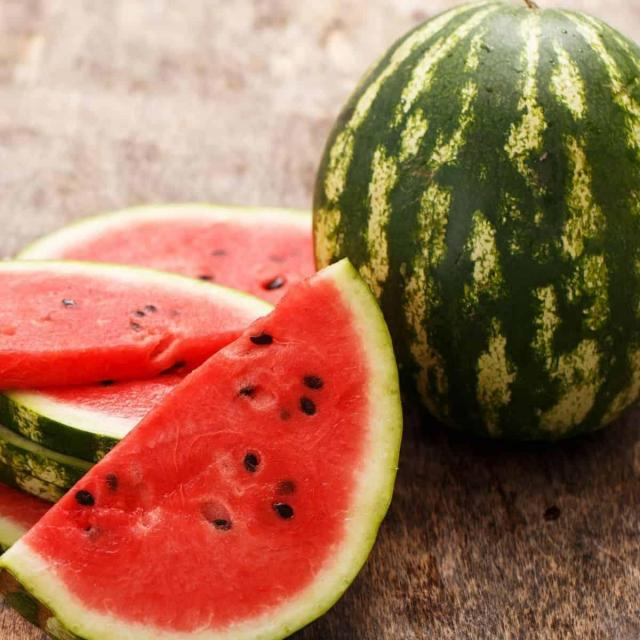watermelon: (0, 241, 414, 640), (309, 0, 640, 467), (0, 188, 342, 508), (0, 243, 305, 404)
